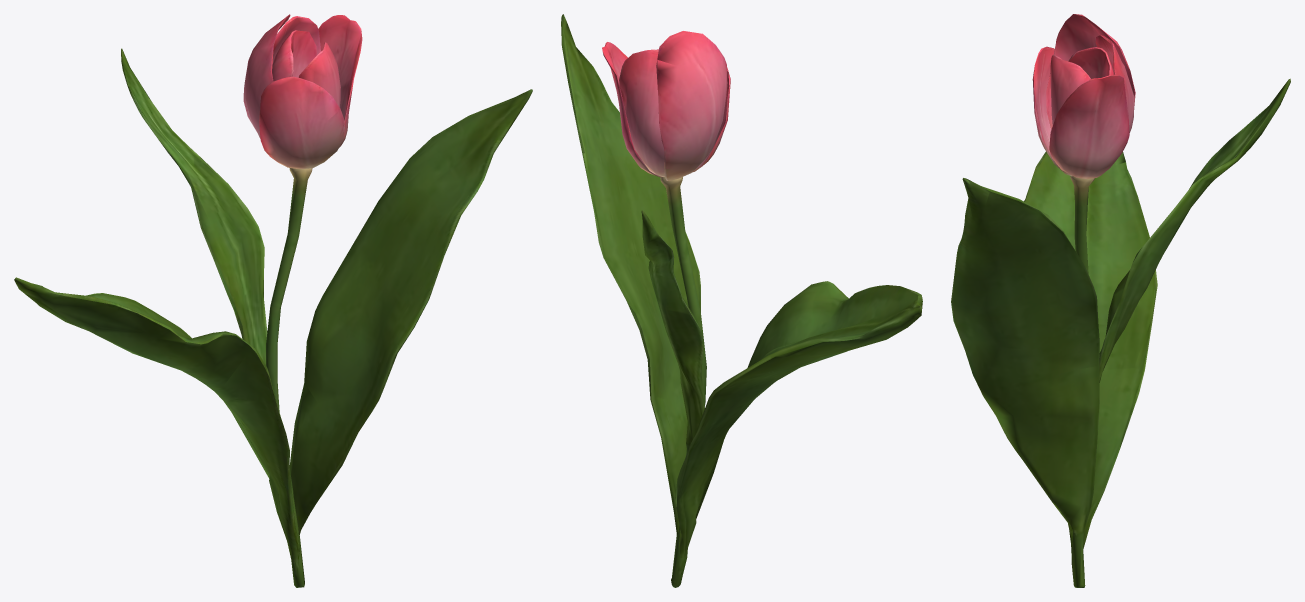
File: lale.glb
3 views of the same model, side by side, from view 1: azimuth 30°, elevation 25°; view 2: azimuth 150°, elevation 25°; view 3: azimuth 270°, elevation 25° (orthographic). The views are drawn at different scales.
Parts seen in each view (by area): view 1: Object_5; view 2: Object_5; view 3: Object_5.
Part boxes in pixels (x1,y1,x2,y2): Object_5: [14, 14, 532, 587]; Object_5: [561, 14, 922, 587]; Object_5: [951, 14, 1290, 587].
Bounding box in the file's own units: 0.0297 × 0.0367 × 0.02.
Materials: 1 (1 with a texture image).
